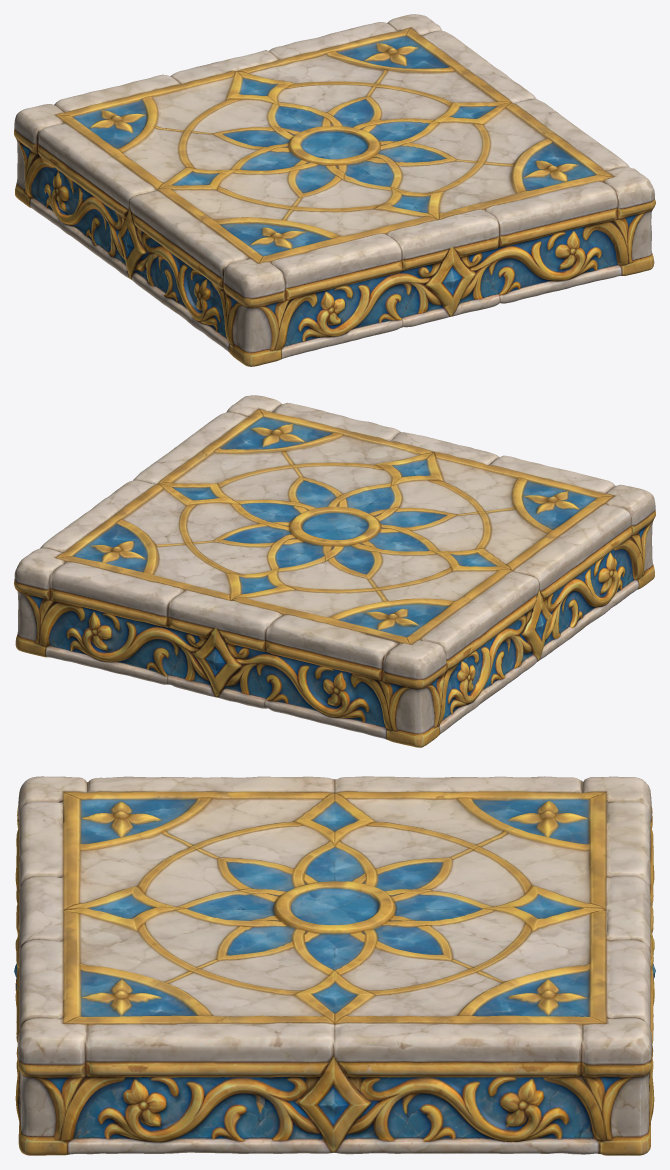
3 renders of one model, top to bottom at view 1: azimuth 30°, elevation 25°; view 2: azimuth 150°, elevation 25°; view 3: azimuth 270°, elevation 25°, orthographic. The views are drawn at different scales.
Visible parts, largest first — view 1: tripo_node_46340127-b2db-4a1f-aa01-857d8ed3e2af; view 2: tripo_node_46340127-b2db-4a1f-aa01-857d8ed3e2af; view 3: tripo_node_46340127-b2db-4a1f-aa01-857d8ed3e2af.
Boxes of the visible parts, x1,y1,x2,y2 form: tripo_node_46340127-b2db-4a1f-aa01-857d8ed3e2af: (14,14,655,366); tripo_node_46340127-b2db-4a1f-aa01-857d8ed3e2af: (14,395,655,747); tripo_node_46340127-b2db-4a1f-aa01-857d8ed3e2af: (14,776,655,1155).
Bounding box in the file's own units: 0.9753 × 0.2077 × 0.9762.
Materials: 1 (1 with a texture image).
